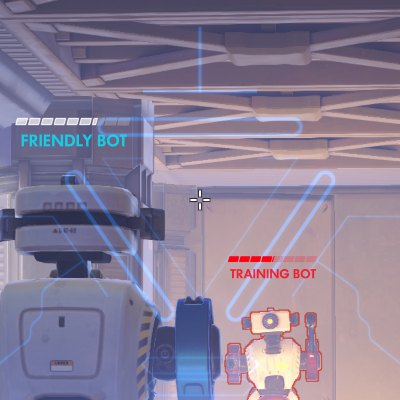hpbar: (227, 255, 317, 263)
